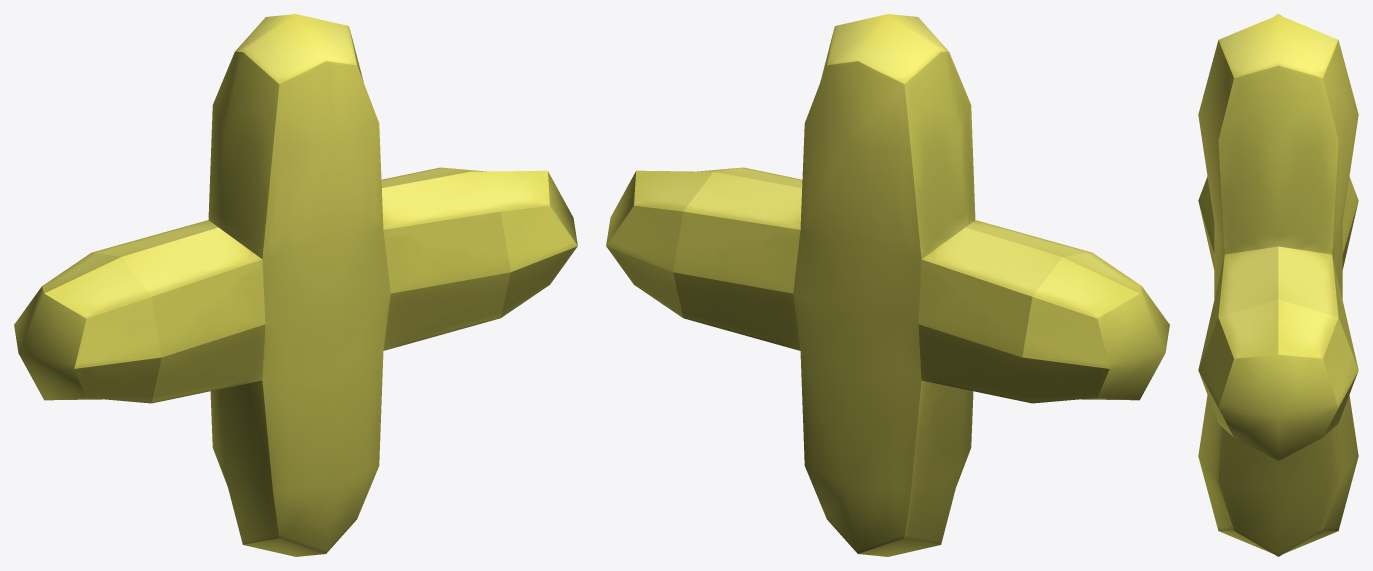
The model's file is jiahao.FBX.
3 renders of one model, left to right at view 1: azimuth 30°, elevation 25°; view 2: azimuth 150°, elevation 25°; view 3: azimuth 270°, elevation 25°, orthographic.
Visible parts, largest first — view 1: Box09; view 2: Box09; view 3: Box09.
Part boxes in pixels (bbox=[...]): Box09: bbox=[14, 14, 577, 556]; Box09: bbox=[606, 14, 1169, 556]; Box09: bbox=[1198, 14, 1358, 556].
Size of the model in its own units: 21.01 by 5.27 by 19.64.
1 material, 1 textured.
